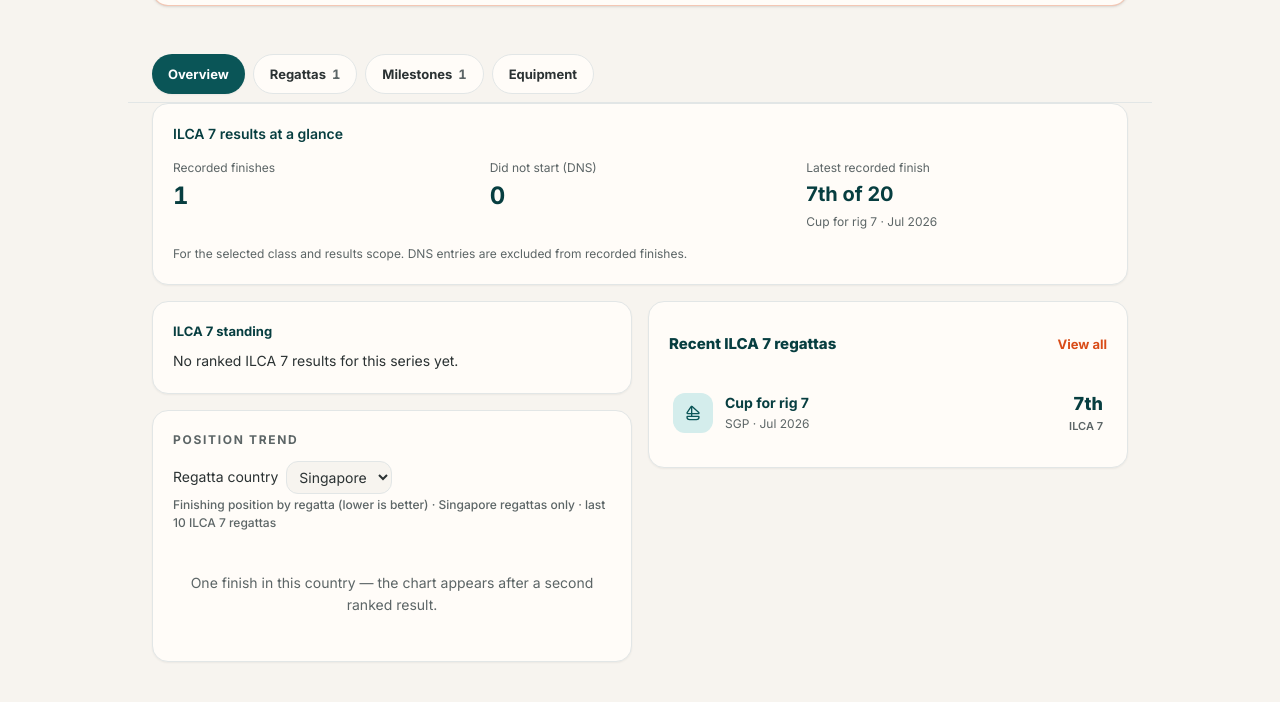
it: ILCA profile rendering › opens and focuses the selected recent regatta instead of only changing tabs
(page scrolled)
Step 1. Click the button "Cup for rig 7 SGP · Jul 2026 7th ILCA 7" → (693, 413), box [669,378,1107,447]
(page scrolled)
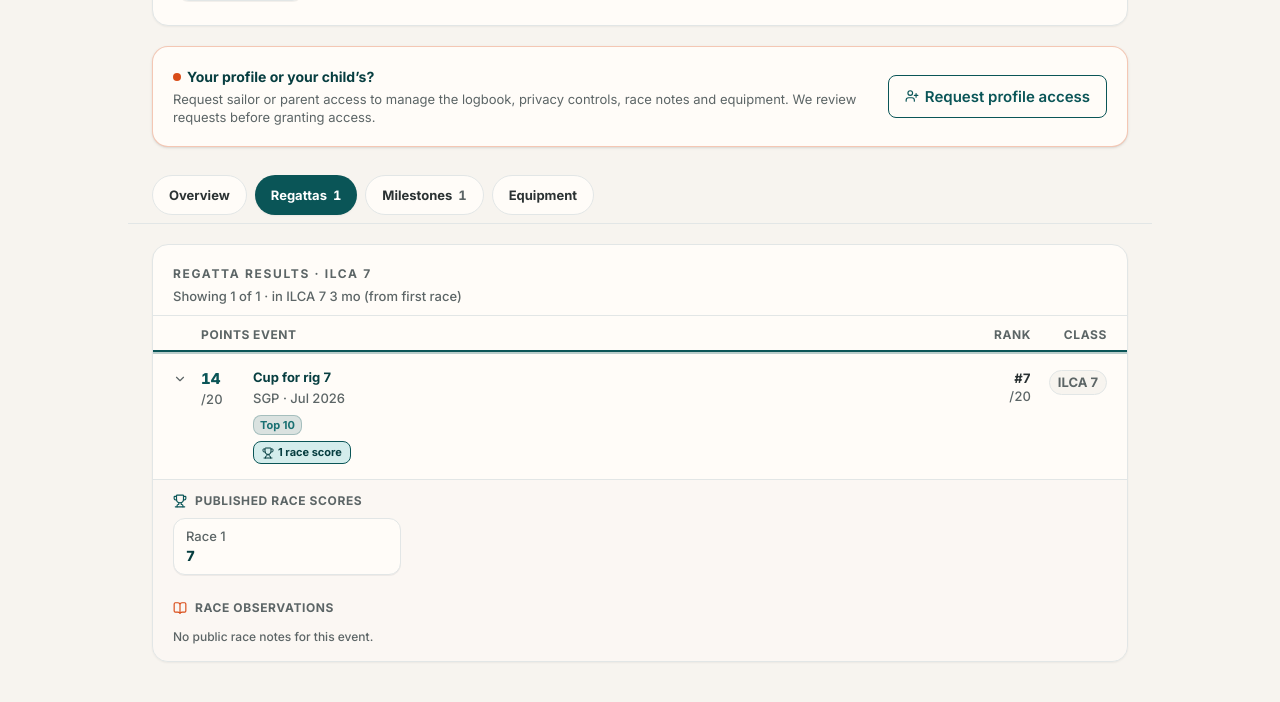
Check: the button that starts with "Cup for rig 7" is shown, box [153,354,1127,479]
